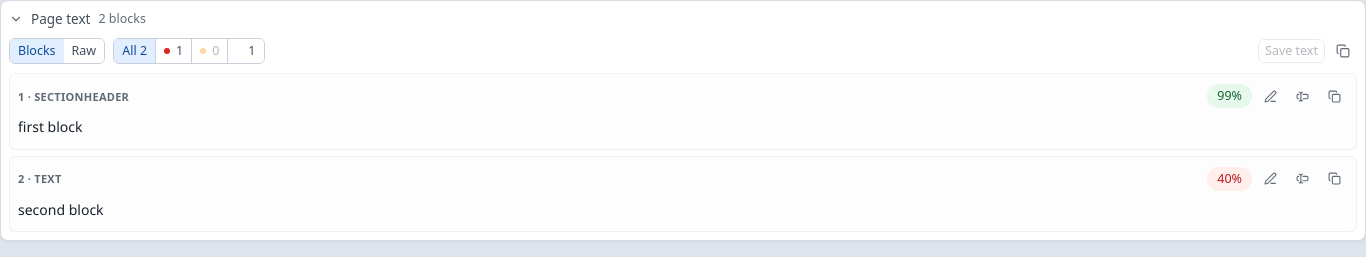
Test case: PageTextPanel confidence filter › filters the cards to one band and back
Click the button named "1 need checking": coordinates (174, 51) [156, 39, 191, 63]
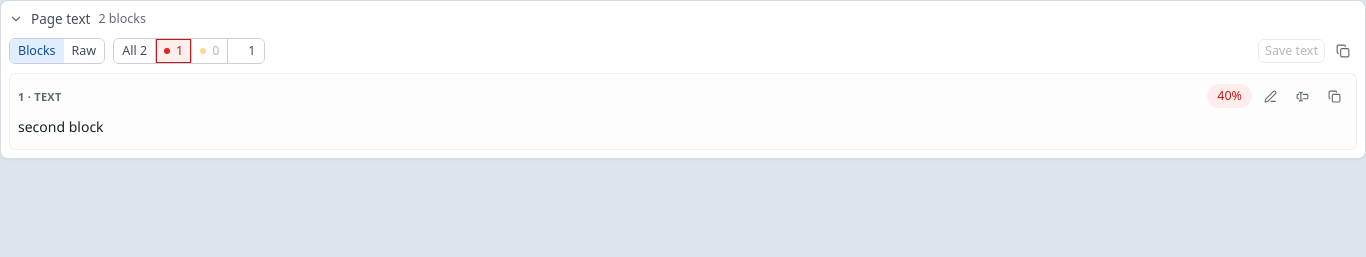
Expected: the text "second block" is shown, [18, 117, 104, 136]
Result: the text "first block" is gone
Click the button named "1 need checking": coordinates (174, 51) [156, 39, 191, 63]
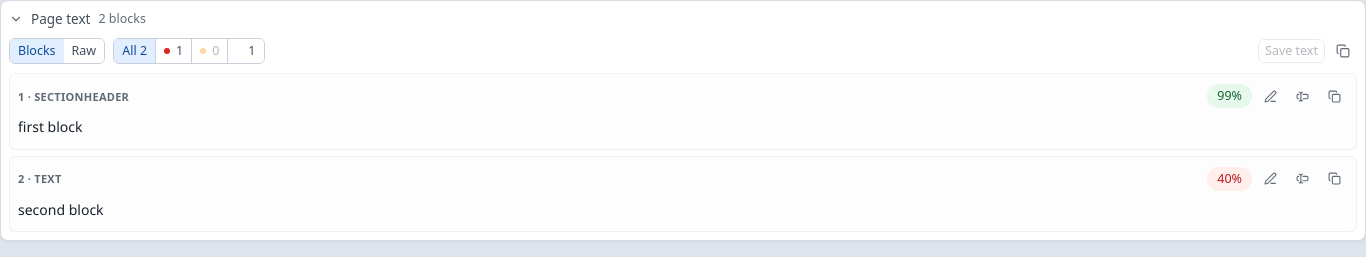
Result: the text "first block" is shown at [18, 117, 82, 136]
